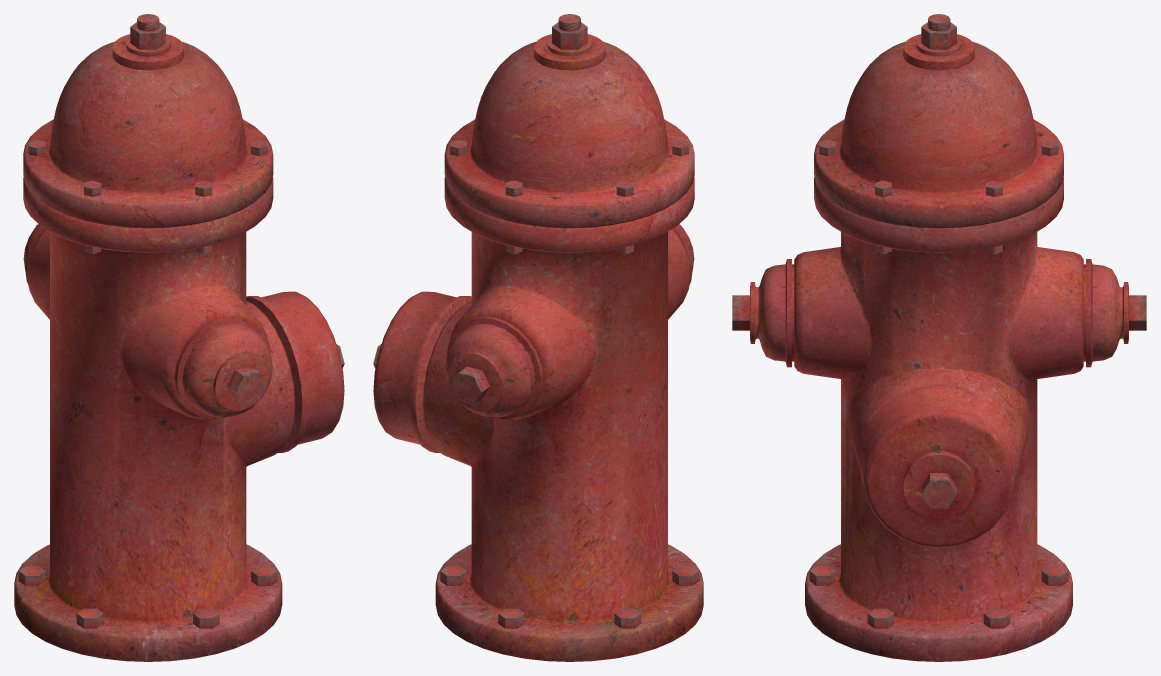
The model's file is Hydrant03.fbx.
3 renders of one model, left to right at view 1: azimuth 30°, elevation 25°; view 2: azimuth 150°, elevation 25°; view 3: azimuth 270°, elevation 25°, orthographic.
Visible parts, largest first — view 1: node_id8; view 2: node_id8; view 3: node_id8.
Part boxes in pixels (box(x1,y1,x2,y2)): node_id8: box(14, 14, 344, 661); node_id8: box(373, 14, 703, 661); node_id8: box(732, 14, 1146, 661).
Bounding box in the file's own units: 0.2772 × 0.512 × 0.3279.
Materials: 2 (1 with a texture image).
